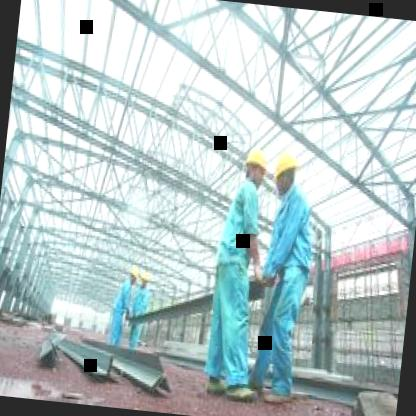helmet: (270, 148, 300, 190), (240, 145, 270, 187)
